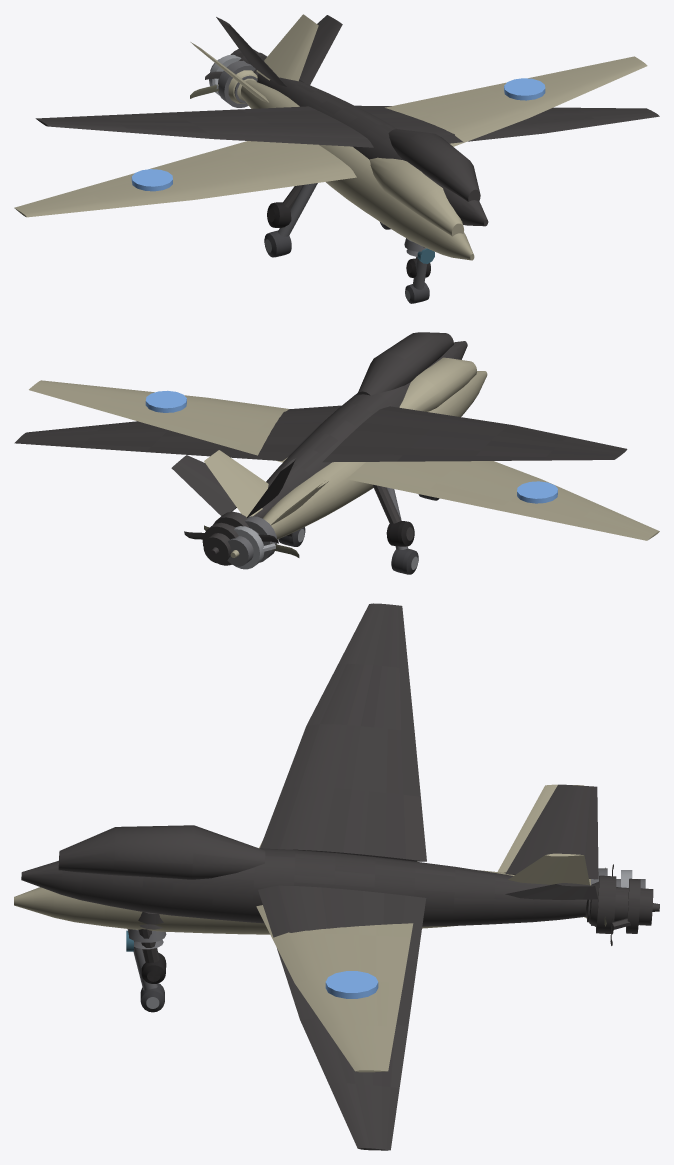
File: drone__taliban_built_drone.glb
3 renders of one model, top to bottom at view 1: azimuth 30°, elevation 25°; view 2: azimuth 150°, elevation 25°; view 3: azimuth 270°, elevation 25°, orthographic. The views are drawn at different scales.
Visible parts, largest first — view 1: Fuselage_Mesh, Wreck, Propeller_Mesh; view 2: Wreck, Fuselage_Mesh, Propeller_Mesh; view 3: Wreck, Fuselage_Mesh.
Part boxes in pixels (x1,y1,x2,y2): Fuselage_Mesh: (14, 14, 647, 303); Wreck: (35, 15, 659, 277); Propeller_Mesh: (190, 54, 257, 107); Wreck: (14, 332, 627, 565); Fuselage_Mesh: (29, 357, 659, 574); Propeller_Mesh: (204, 516, 299, 569); Wreck: (21, 603, 659, 1150); Fuselage_Mesh: (14, 784, 589, 1072).
Size of what is drawn, in the model's own units: 4.9 by 1.35 by 3.42.
